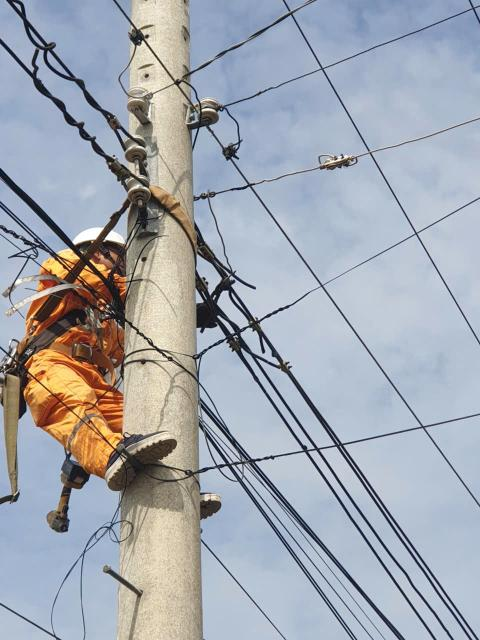gloves: (182, 291, 228, 343)
harness: (1, 302, 112, 376)
helmet: (62, 215, 133, 270)
shoes: (69, 423, 186, 482), (186, 489, 227, 527)
